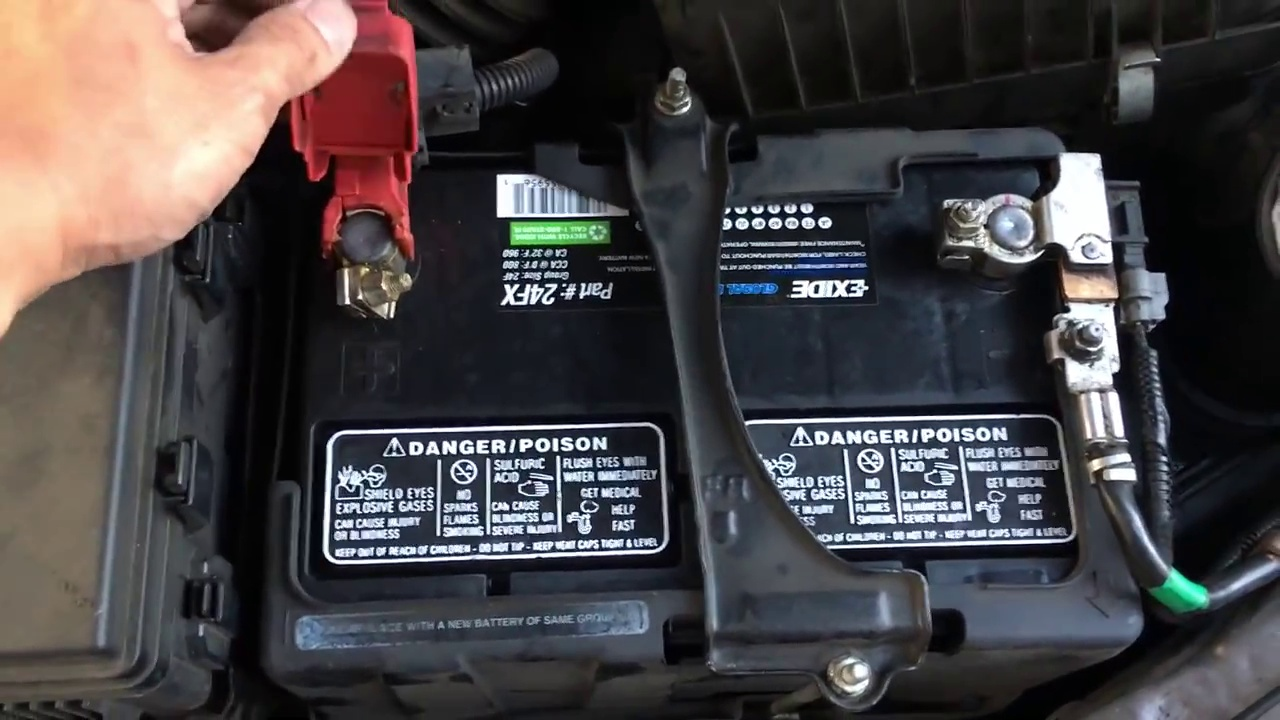battery: (282, 136, 1148, 654)
neg_connected: (926, 140, 1128, 303)
pos_connected: (276, 44, 431, 325)
pos_touched: (180, 7, 427, 320)
